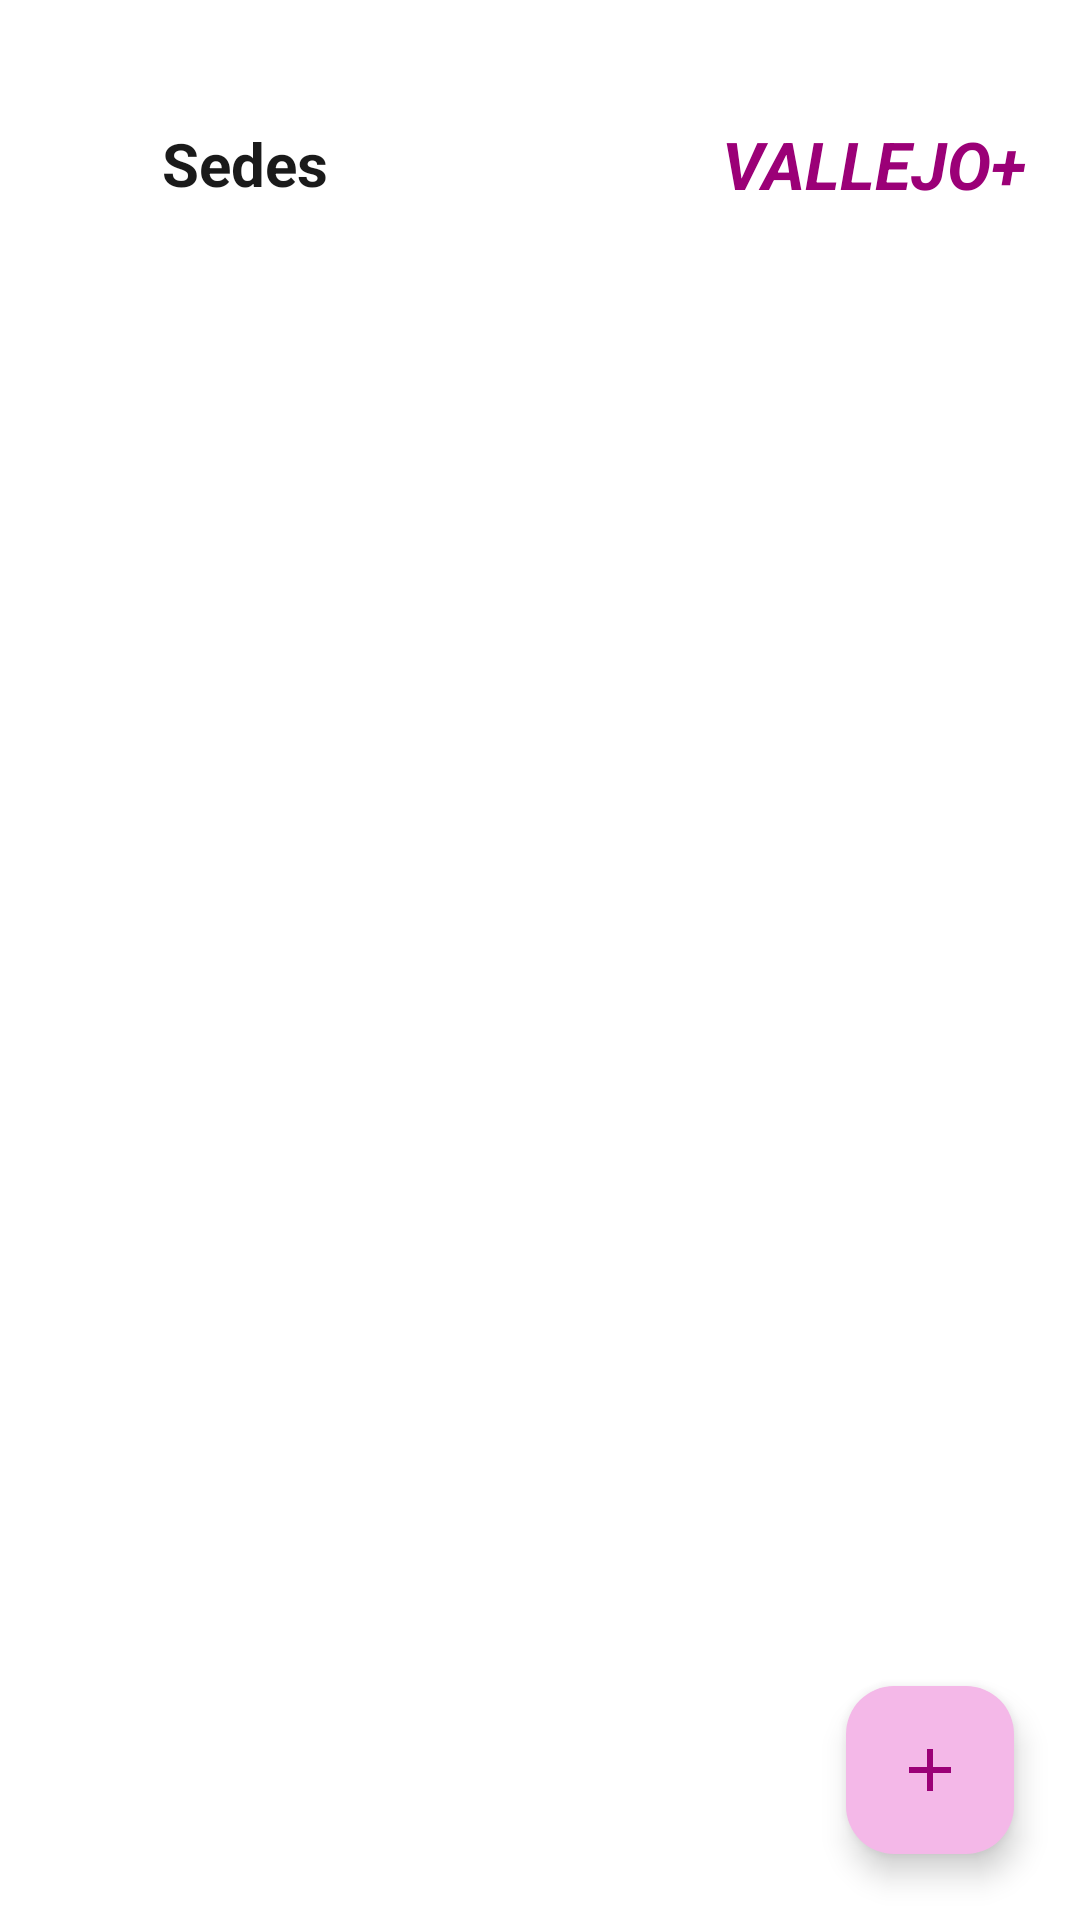

Named icons in this screenshot (1080 × 1920) and their bounding boxes, rect(x1, y1, x2, y2):
Registrar sede: rect(846, 1686, 1014, 1854)
